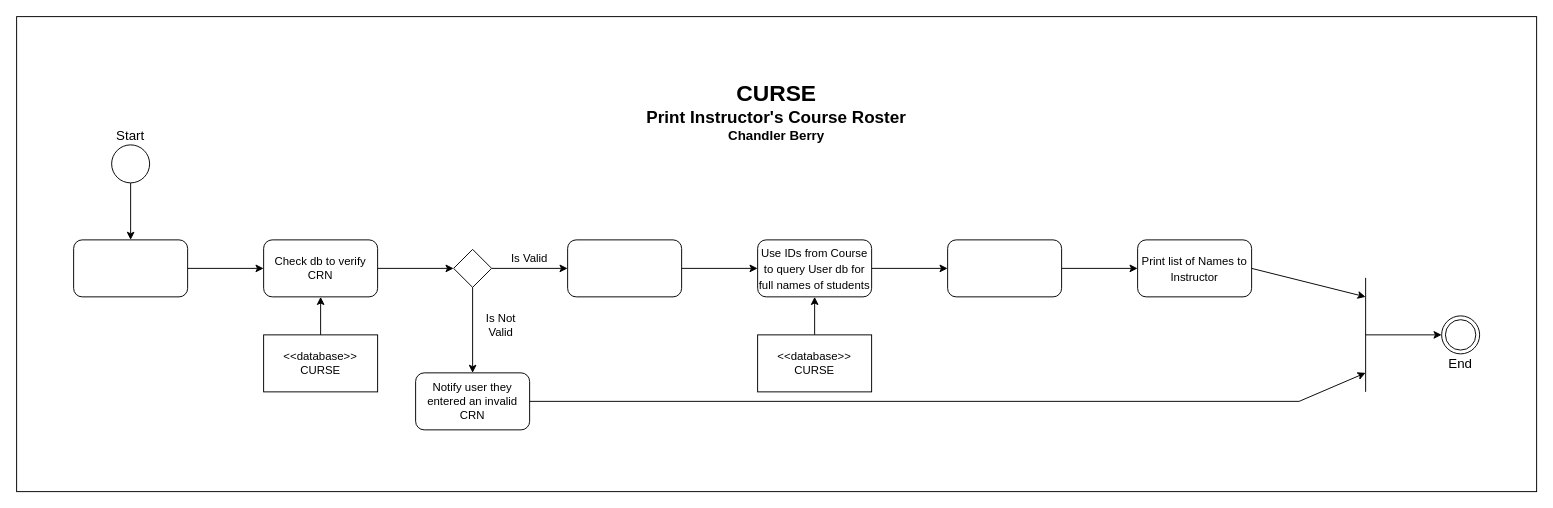
The diagram is 1553 pixels wide and 508 high, and some of its shapes have lost their labels. Each missing label, with the box of its shape:
Format Student Names into list: (947, 239, 1062, 297)
Prompt instructor to enter CRN: (73, 239, 188, 297)
Query Course db given the CRN to get student ID numbers: (567, 239, 682, 297)
